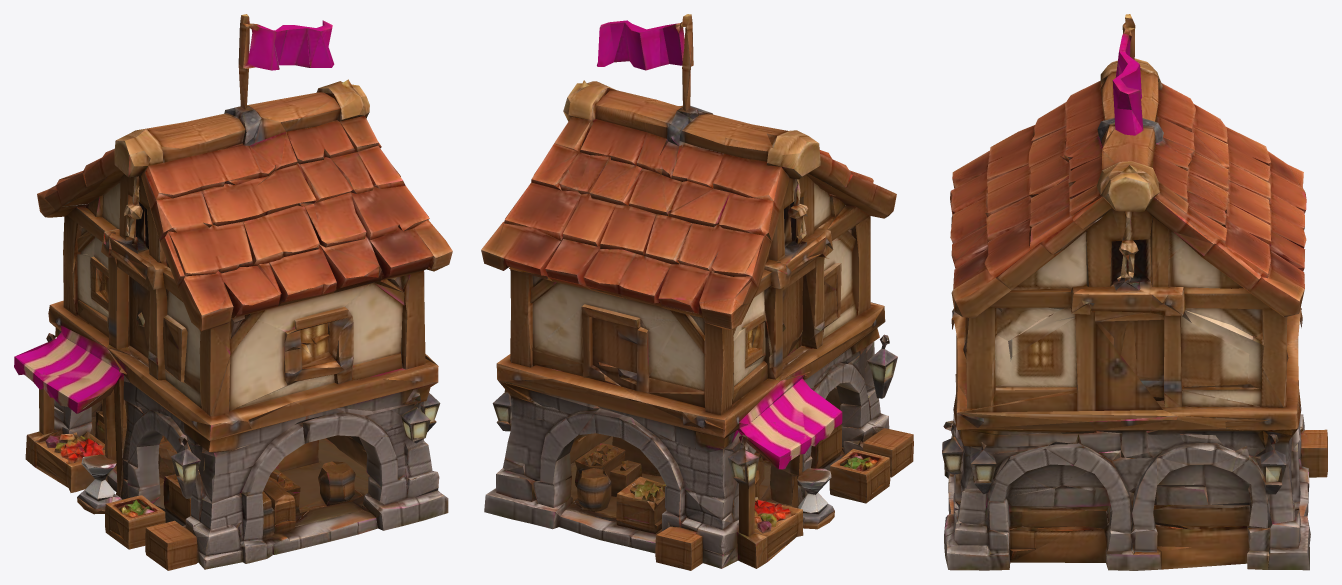
File: storehouse2.glb
The picture shows the model from 3 angles, left to right: view 1: azimuth 30°, elevation 25°; view 2: azimuth 150°, elevation 25°; view 3: azimuth 270°, elevation 25°; orthographic projection. The views are drawn at different scales.
Visible parts, largest first — view 1: Mesh_0; view 2: Mesh_0; view 3: Mesh_0.
Part boxes in pixels (bbox=[...]): Mesh_0: bbox=[14, 14, 452, 570]; Mesh_0: bbox=[481, 14, 913, 570]; Mesh_0: bbox=[942, 14, 1327, 570].
Bounding box in the file's own units: 1.24 × 1.9 × 1.34.
Materials: 1 (1 with a texture image).
